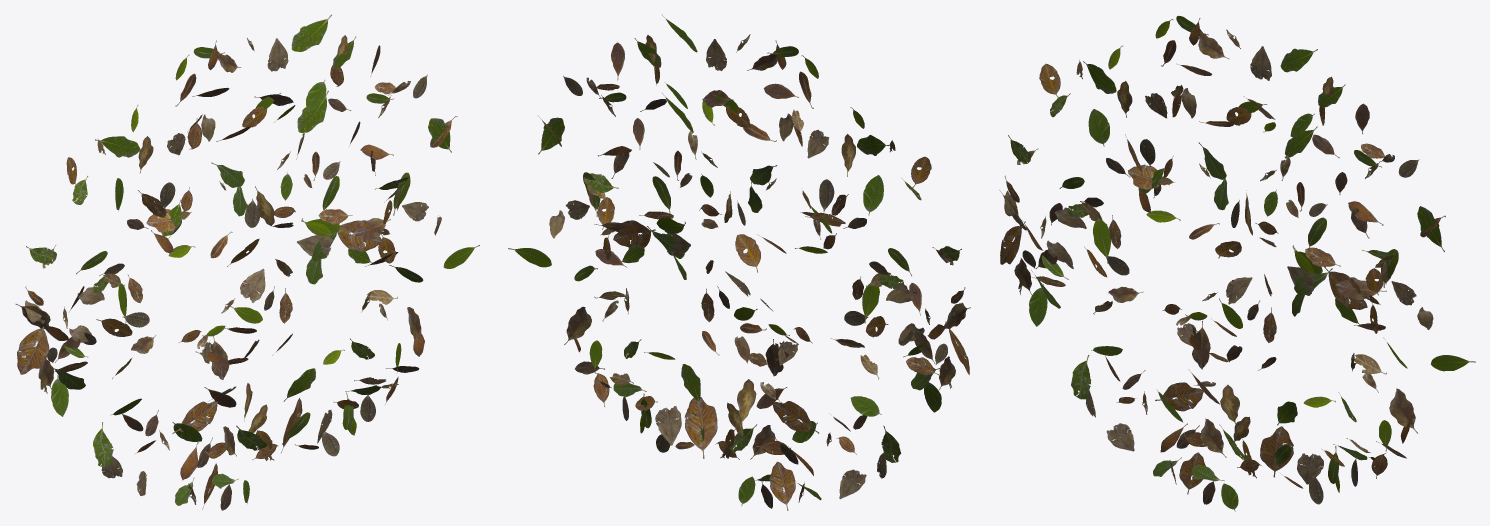
Rendered from Leaf_Pile_01_Var1_LOD2.fbx.
3 views of the same model, side by side, from view 1: azimuth 30°, elevation 25°; view 2: azimuth 150°, elevation 25°; view 3: azimuth 330°, elevation 25° (orthographic). The views are drawn at different scales.
Visible parts, largest first — view 1: Var1_LOD2; view 2: Var1_LOD2; view 3: Var1_LOD2.
Boxes of the visible parts, x1=… form: Var1_LOD2: x1=15, y1=14, x2=479, y2=510; Var1_LOD2: x1=508, y1=14, x2=970, y2=510; Var1_LOD2: x1=999, y1=15, x2=1475, y2=511.
Size of the model in its own units: 170 by 165 by 7.5.
